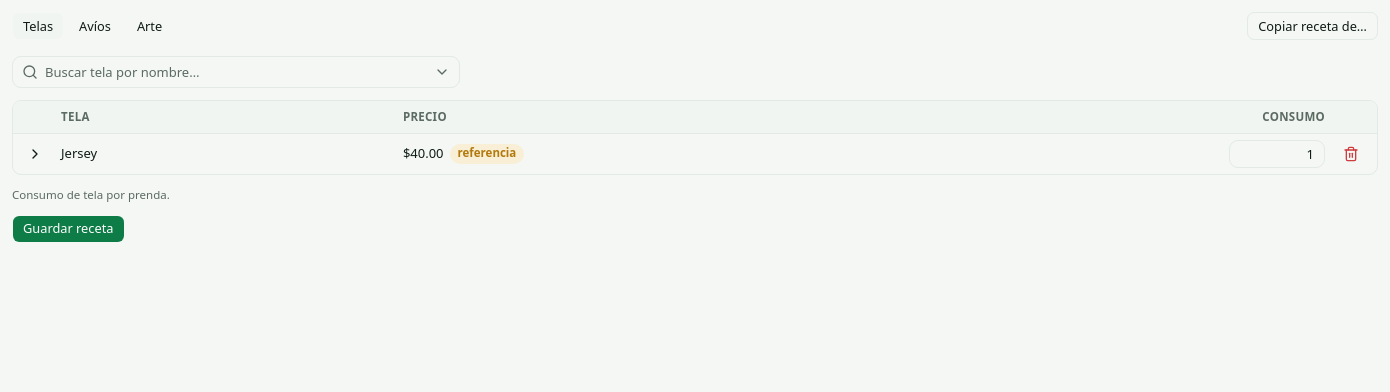
it: <EditorBom> — secciones de la receta › la sugerencia de avíos favoritos se ve en la sección de Avíos, no en la de Telas
Step 1. Click the tab with test id "tab-bom-avios" → (95, 26), box [68,12,122,40]
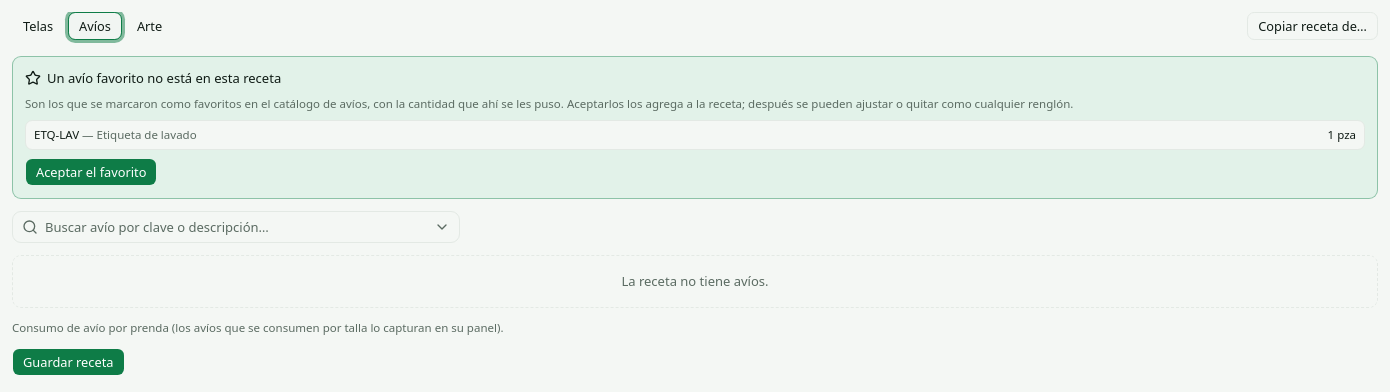
Expected: the element with test id "sugerencia-avios-favoritos" is shown, [12,56,1378,199]
Expected: the list item with test id "avio-favorito-7" shows "1 pza", [25,120,1365,150]
Expected: the button with test id "aceptar-avios-favoritos" is enabled, [25,158,157,186]
